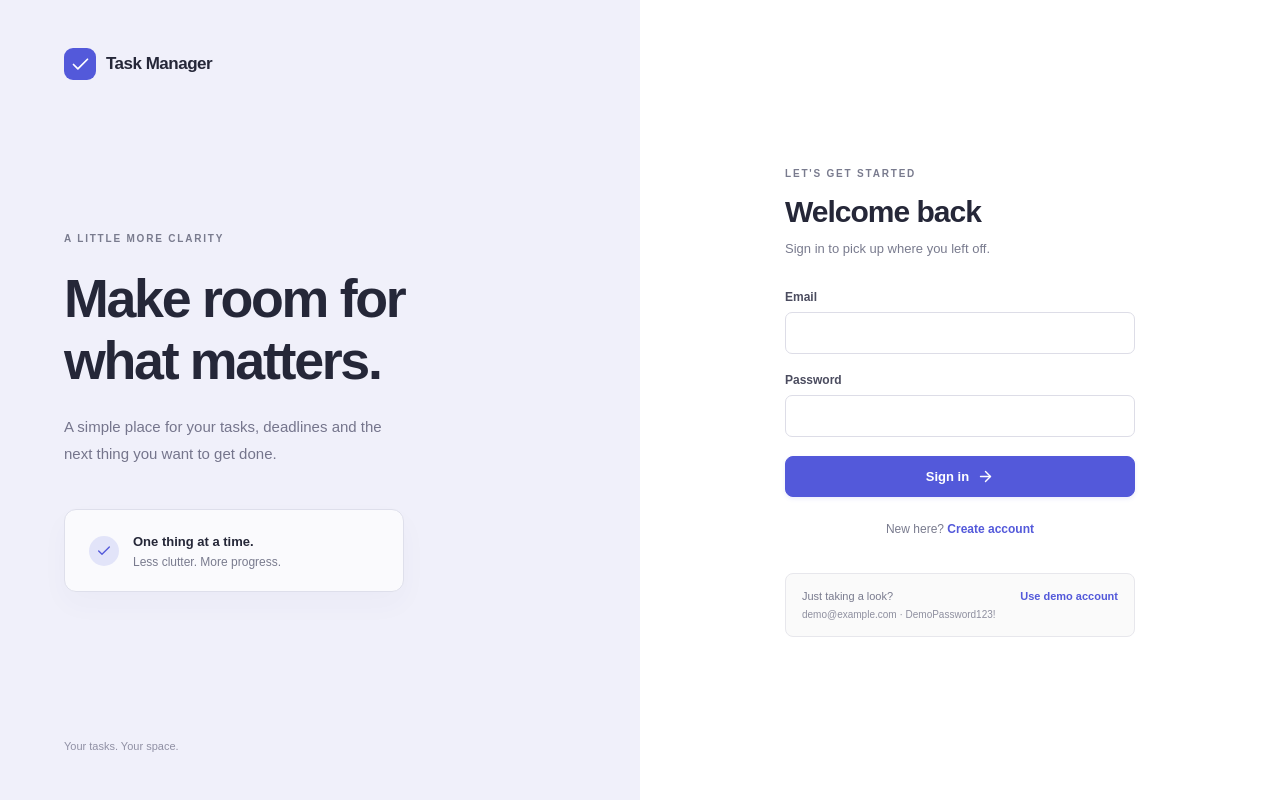
Test: Application flows › returns to sign-in when a protected request receives 401
The width and height of the screenshot is (1280, 800).
Click the button "Use demo account".
click(1069, 596)  # box [1020, 590, 1118, 602]
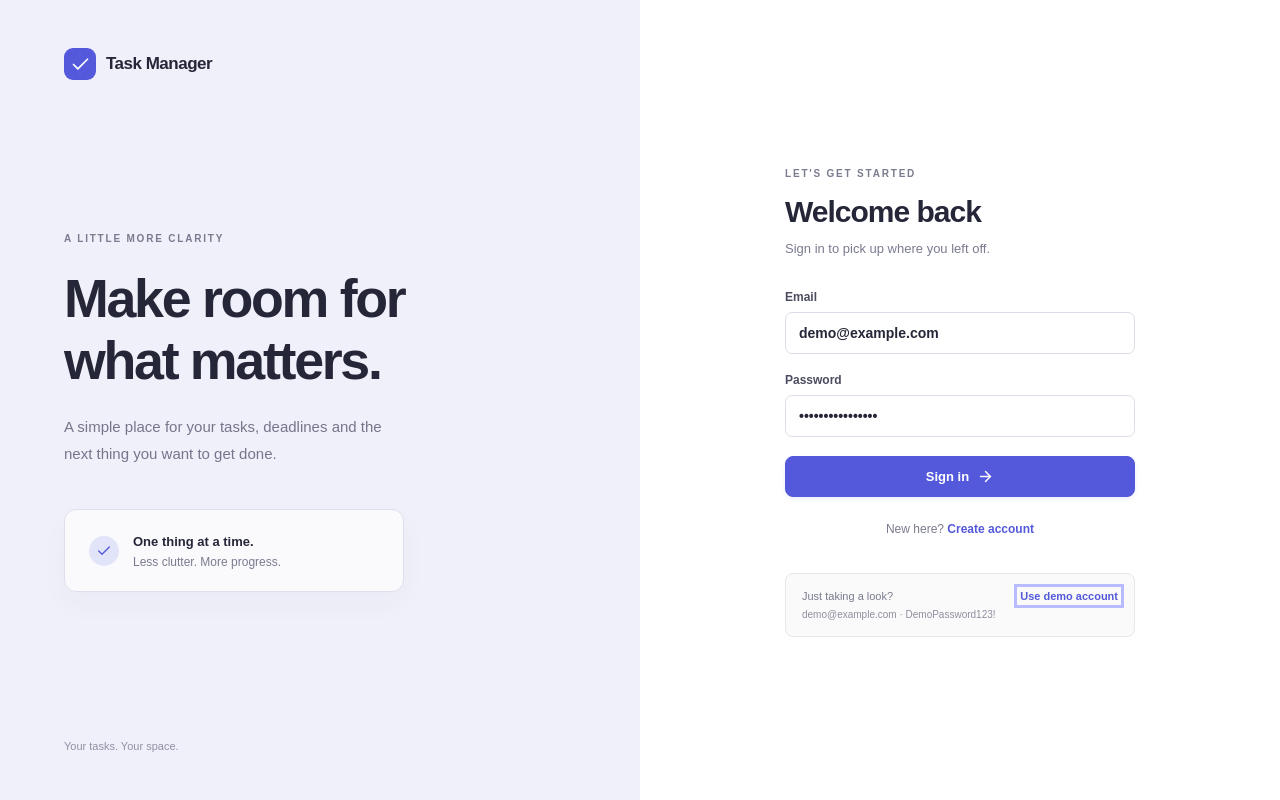
Click the button "Sign in".
click(960, 476)  # box [785, 456, 1135, 497]
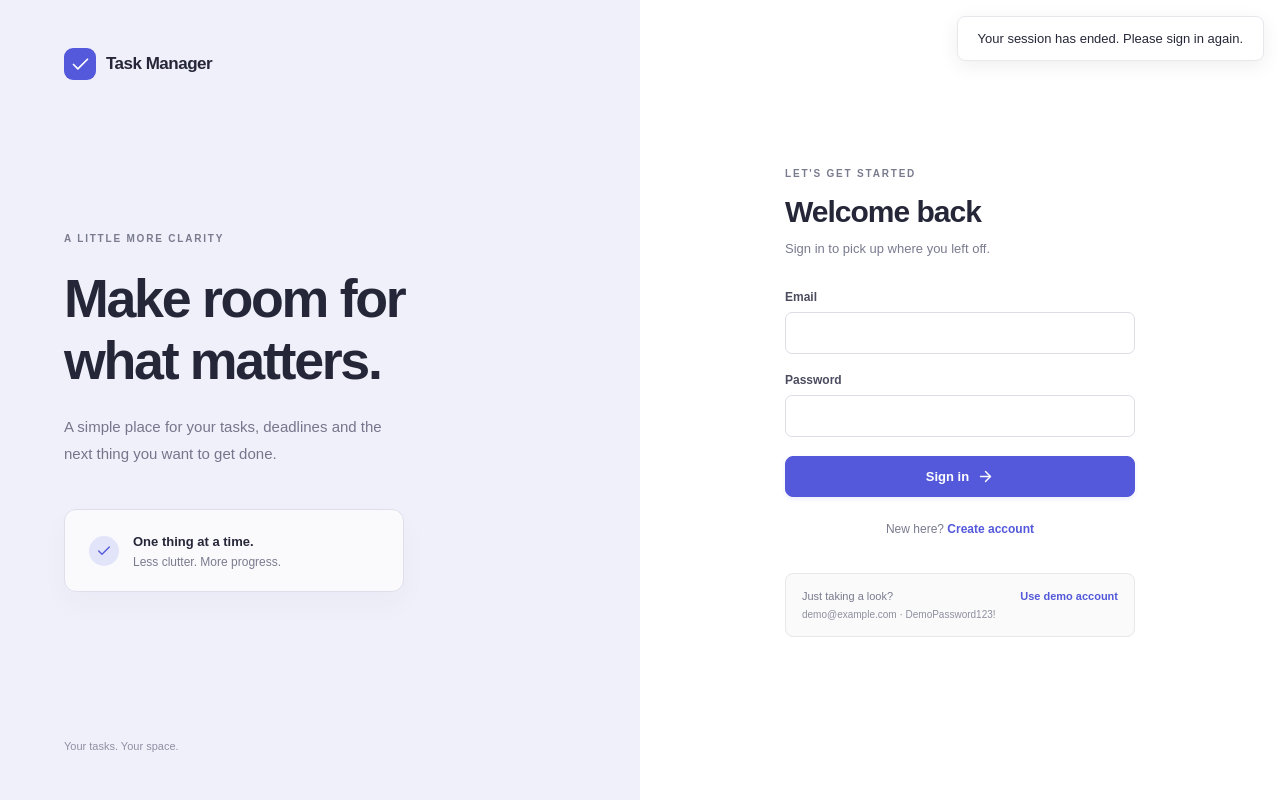
Expected: the heading "Welcome back" is shown, [785, 195, 981, 228]
Expected: the message shows "session has ended", [978, 31, 1243, 46]
